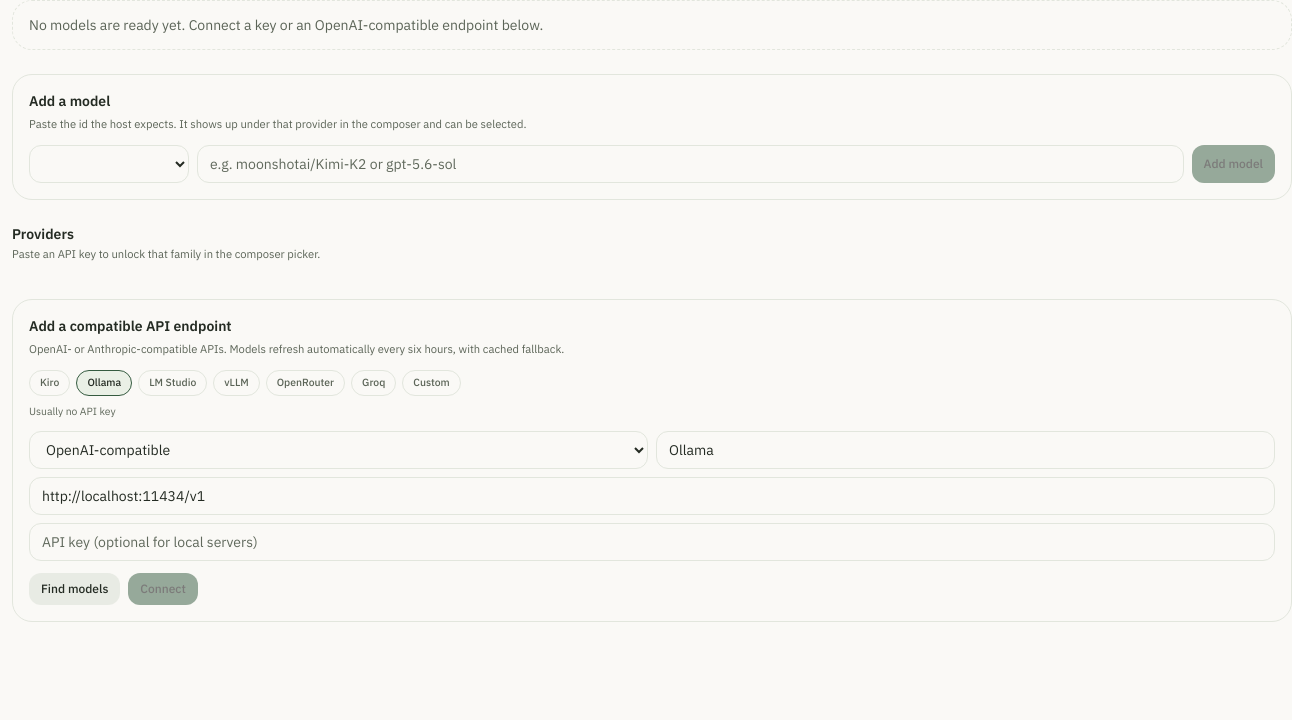
Test: discovers and connects an Anthropic-compatible endpoint with the selected API format
Later steps or results of the test are not shown.
Select "Anthropic-compatible" in the dropdown named "API format" at (338, 450), box [29,431,648,469]
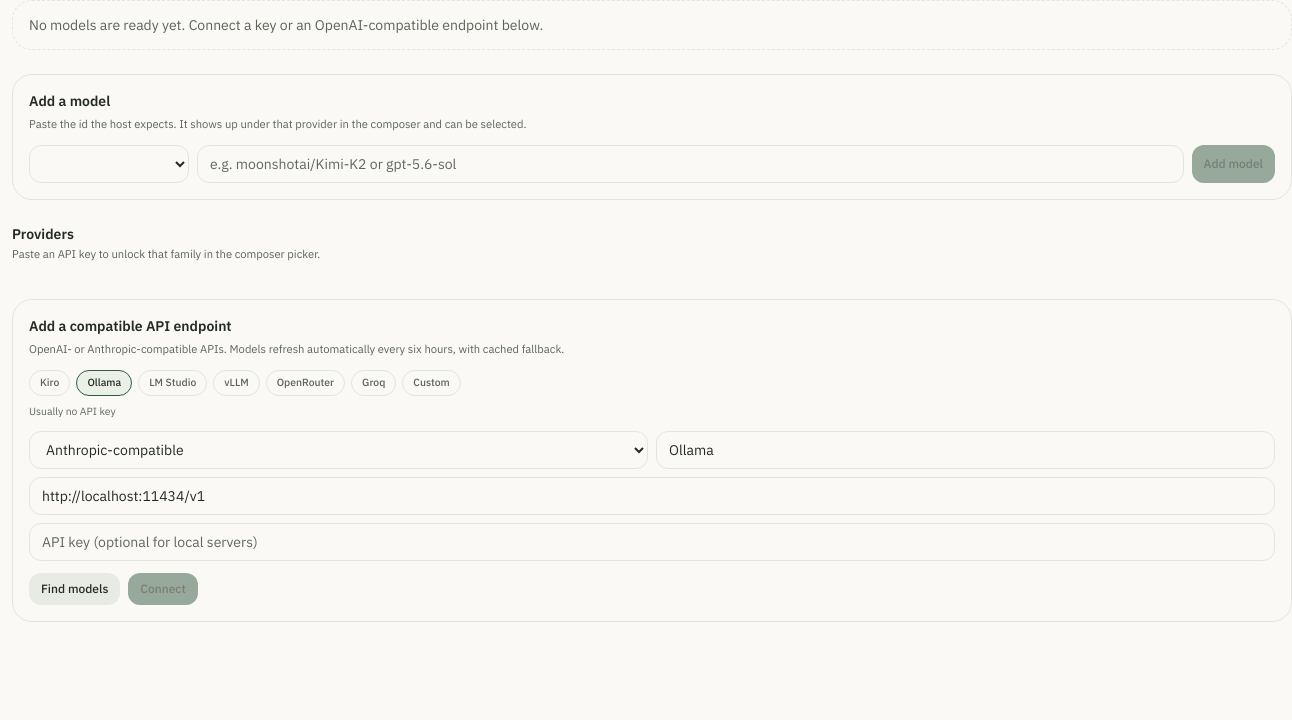
Replace the text in the field named "Base URL" with "https://provider.test" at (652, 496), box [29,477,1275,515]
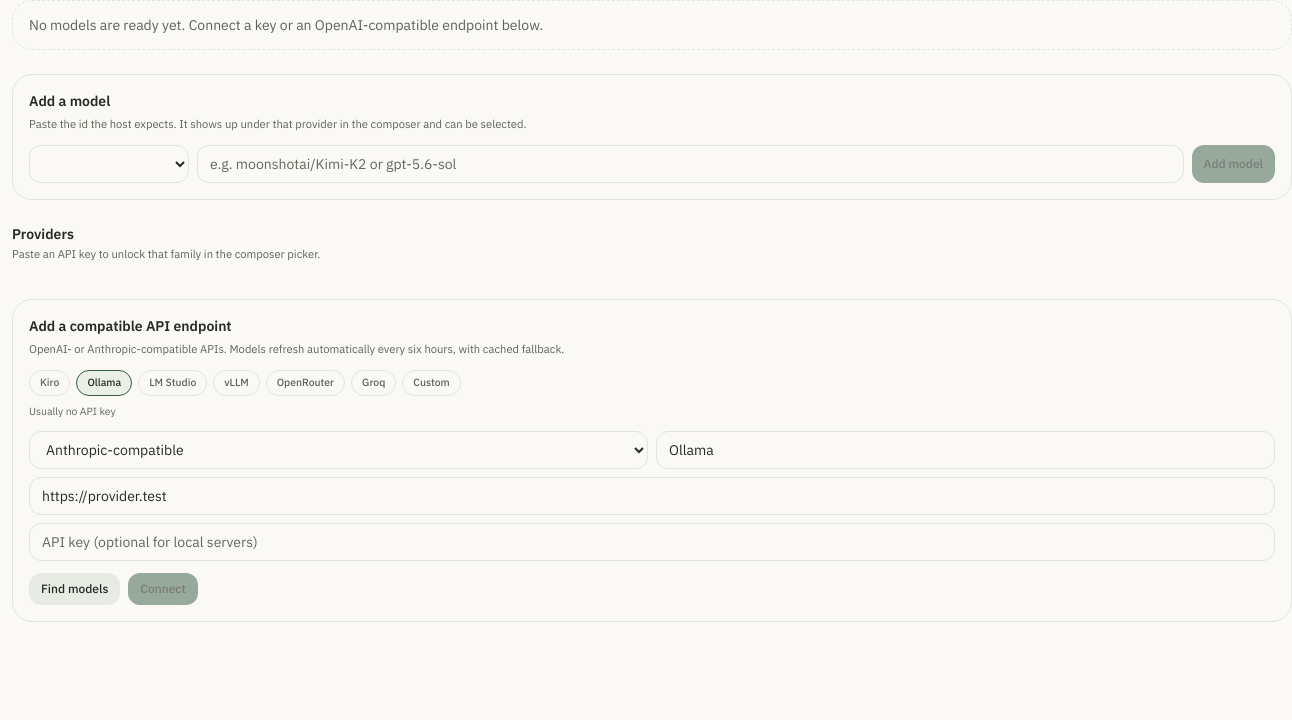
Type "test-key" into the password field labelled "API key" at (652, 542), box [29,523,1275,561]
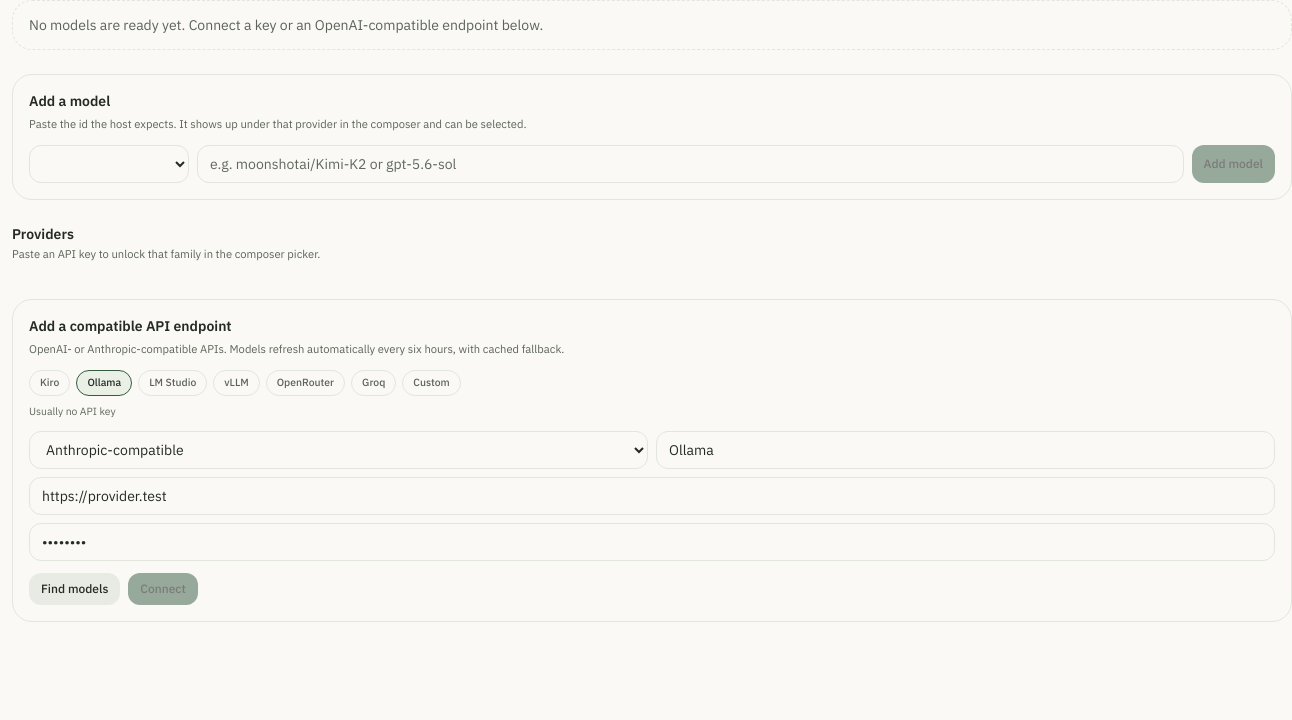
Click the button "Find models" at (75, 589), box [29,573,120,605]
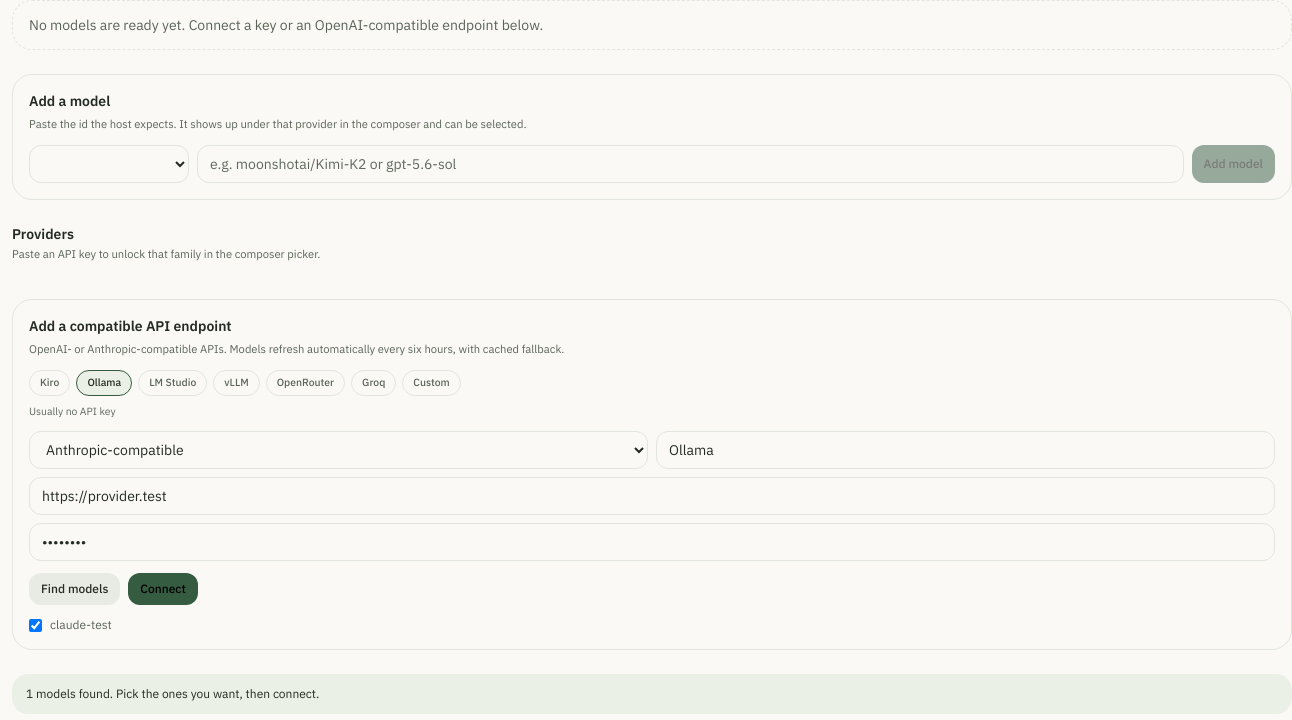
Expected: the text "claude-test" is shown, [29,617,112,632]
